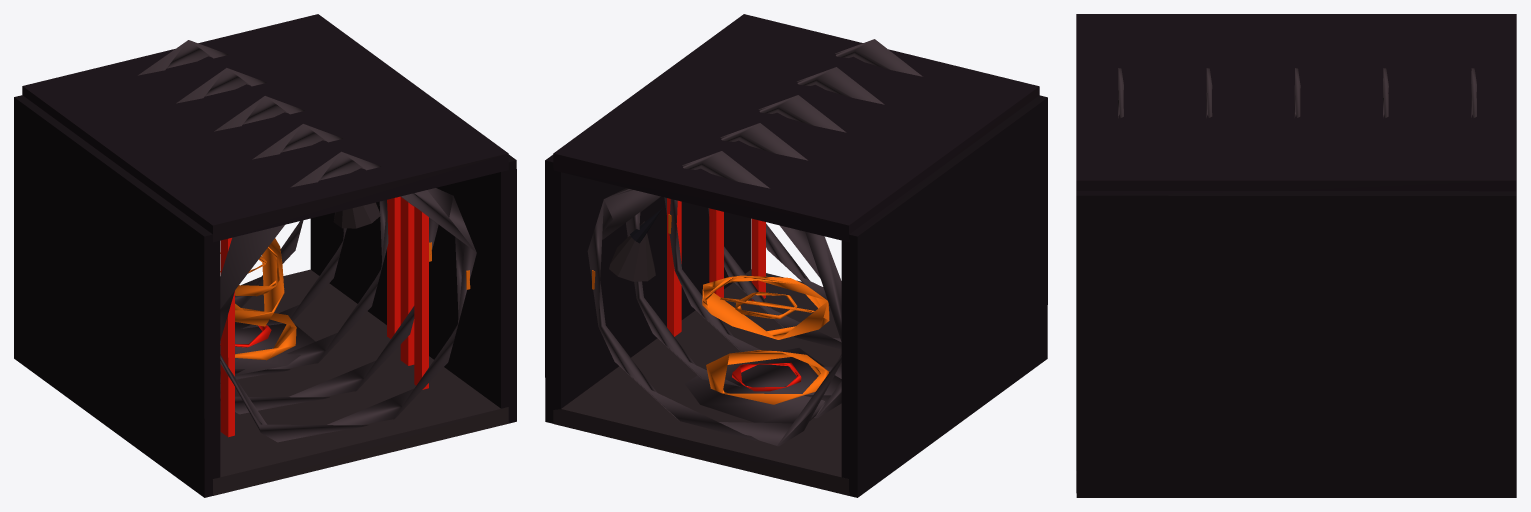
The model's file is dragon_ball_chamber_lod.obj.
The picture shows the model from 3 angles, left to right: view 1: azimuth 30°, elevation 25°; view 2: azimuth 150°, elevation 25°; view 3: azimuth 270°, elevation 25°; orthographic projection. The views are drawn at different scales.
Visible parts, largest first — view 1: DragonBallChamber_Ceiling, DragonBallChamber_Wall_L, DragonBallChamber_Floor, DragonBallChamber_Wall_R, DragonBallChamber_Arch_4, DragonBallChamber_Arch_3, DragonBallChamber_Arch_2, DragonBallChamber_Lavafall_1_2, DragonBallChamber_Arch_1, DragonBallChamber_Lavafall_1_1, DragonBallChamber_Altar, DragonBallChamber_Lavafall_-1_2 (+5 smaller); view 2: DragonBallChamber_Ceiling, DragonBallChamber_Wall_L, DragonBallChamber_Floor, DragonBallChamber_Wall_R, DragonBallChamber_Arch_0, DragonBallChamber_Altar, DragonBallChamber_Arch_1, DragonBallChamber_EnergyRing_2, DragonBallChamber_Arch_2, DragonBallChamber_Arch_3, DragonBallChamber_AltarRune, DragonBallChamber_Arch_4 (+5 smaller); view 3: DragonBallChamber_Wall_R, DragonBallChamber_Ceiling.
Part boxes in pixels (bbox=[...]): DragonBallChamber_Ceiling: bbox=[22, 14, 508, 242]; DragonBallChamber_Wall_L: bbox=[14, 95, 220, 497]; DragonBallChamber_Floor: bbox=[212, 269, 508, 495]; DragonBallChamber_Wall_R: bbox=[310, 154, 516, 423]; DragonBallChamber_Arch_4: bbox=[220, 151, 476, 442]; DragonBallChamber_Arch_3: bbox=[220, 124, 438, 414]; DragonBallChamber_Arch_2: bbox=[214, 96, 388, 382]; DragonBallChamber_Lavafall_1_2: bbox=[414, 206, 428, 389]; DragonBallChamber_Arch_1: bbox=[176, 68, 346, 328]; DragonBallChamber_Lavafall_1_1: bbox=[400, 197, 414, 365]; DragonBallChamber_Altar: bbox=[220, 322, 315, 375]; DragonBallChamber_Lavafall_-1_2: bbox=[220, 238, 234, 437]; DragonBallChamber_Ceiling: bbox=[553, 14, 1039, 242]; DragonBallChamber_Wall_L: bbox=[841, 95, 1047, 497]; DragonBallChamber_Floor: bbox=[553, 269, 849, 495]; DragonBallChamber_Wall_R: bbox=[545, 154, 751, 423]; DragonBallChamber_Arch_0: bbox=[587, 151, 841, 446]; DragonBallChamber_Altar: bbox=[685, 348, 841, 423]; DragonBallChamber_Arch_1: bbox=[626, 123, 841, 418]; DragonBallChamber_EnergyRing_2: bbox=[702, 275, 829, 339]; DragonBallChamber_Arch_2: bbox=[664, 95, 846, 378]; DragonBallChamber_Arch_3: bbox=[708, 67, 884, 349]; DragonBallChamber_AltarRune: bbox=[706, 350, 828, 404]; DragonBallChamber_Arch_4: bbox=[766, 39, 922, 306]; DragonBallChamber_Wall_R: bbox=[1076, 191, 1516, 497]; DragonBallChamber_Ceiling: bbox=[1076, 14, 1516, 199].
Size of the model in its own units: 110 by 98.95 by 116.
